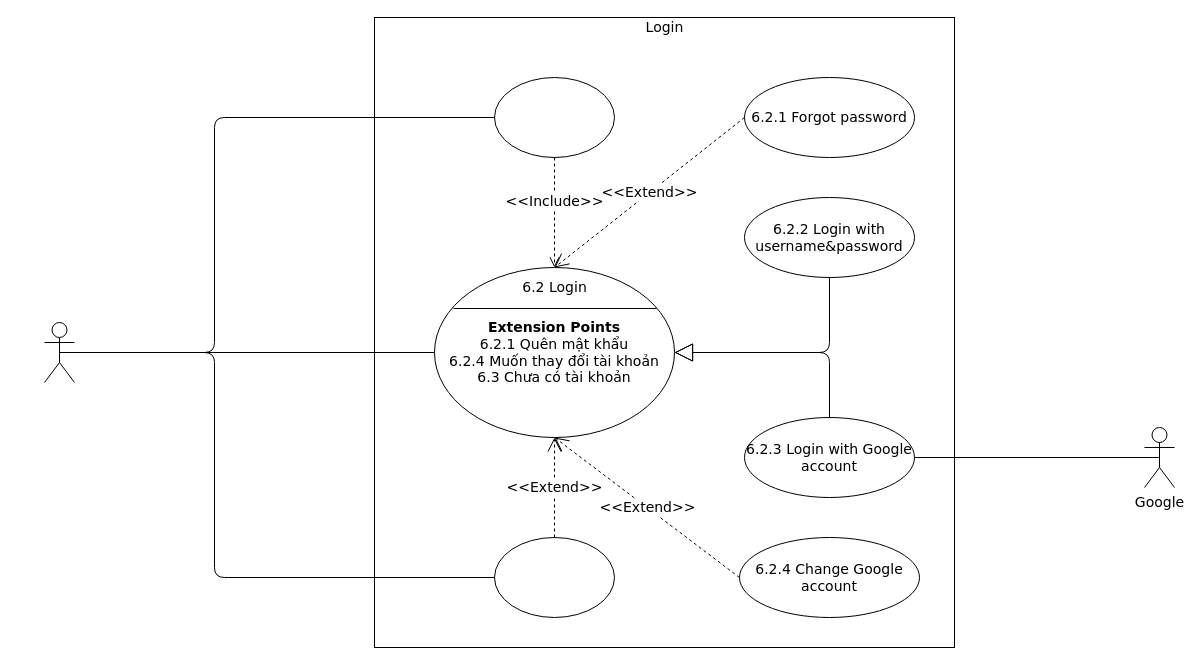
This 1201x665 diagram has some shape labels left out. The shapes that lost their labels are listed below. From the top down, each one's centre as x and y in pixels, then its label:
the point at 554,117: 6.1 Logout
the point at 59,352: User, Admin
the point at 554,577: 6.3 Register
